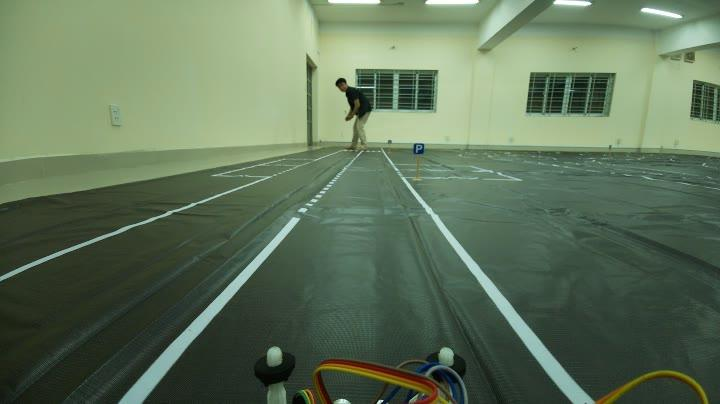parking: (411, 140, 427, 158)
